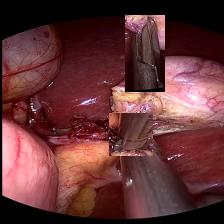Clipper: (108, 113, 152, 156)
Grasper: (124, 15, 164, 92)
